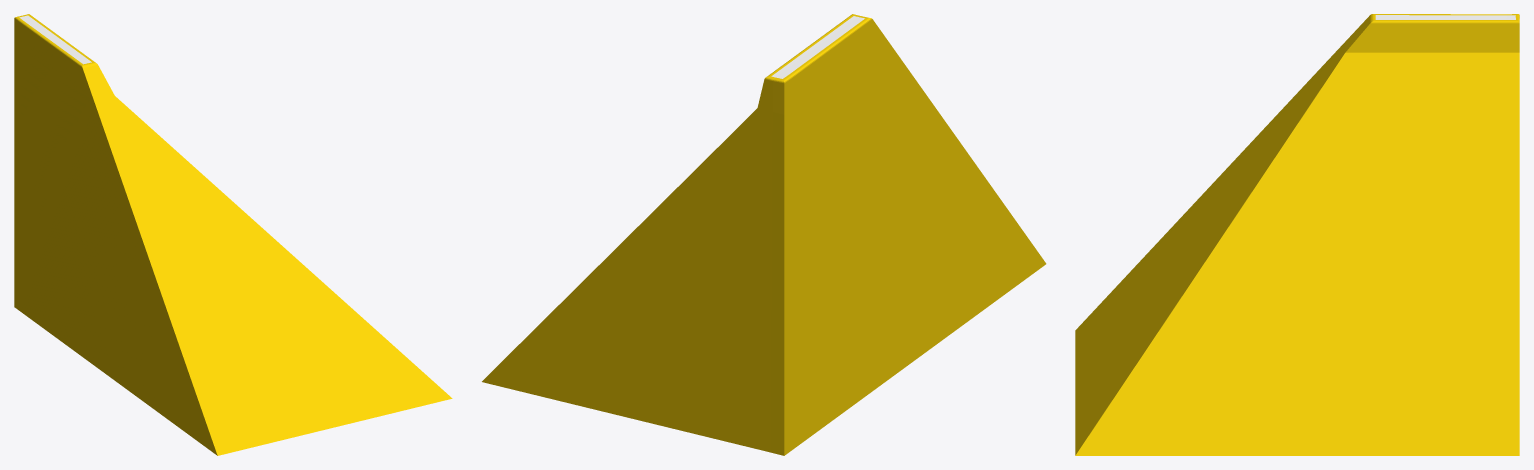
Rendered from corner[bottom].fbx.
3 views of the same model, side by side, from view 1: azimuth 30°, elevation 25°; view 2: azimuth 150°, elevation 25°; view 3: azimuth 270°, elevation 25° (orthographic). The views are drawn at different scales.
Visible parts, largest first — view 1: WALL-CORNER 2(bottom); view 2: WALL-CORNER 2(bottom); view 3: WALL-CORNER 2(bottom).
Boxes of the visible parts, x1,y1,x2,y2 form: WALL-CORNER 2(bottom): (14,14,452,455); WALL-CORNER 2(bottom): (482,14,1046,455); WALL-CORNER 2(bottom): (1075,14,1519,455).
Bounding box in the file's own units: 100 × 118 × 150.
